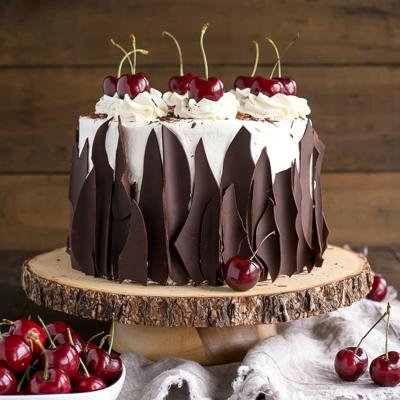cake: (64, 65, 330, 293)
